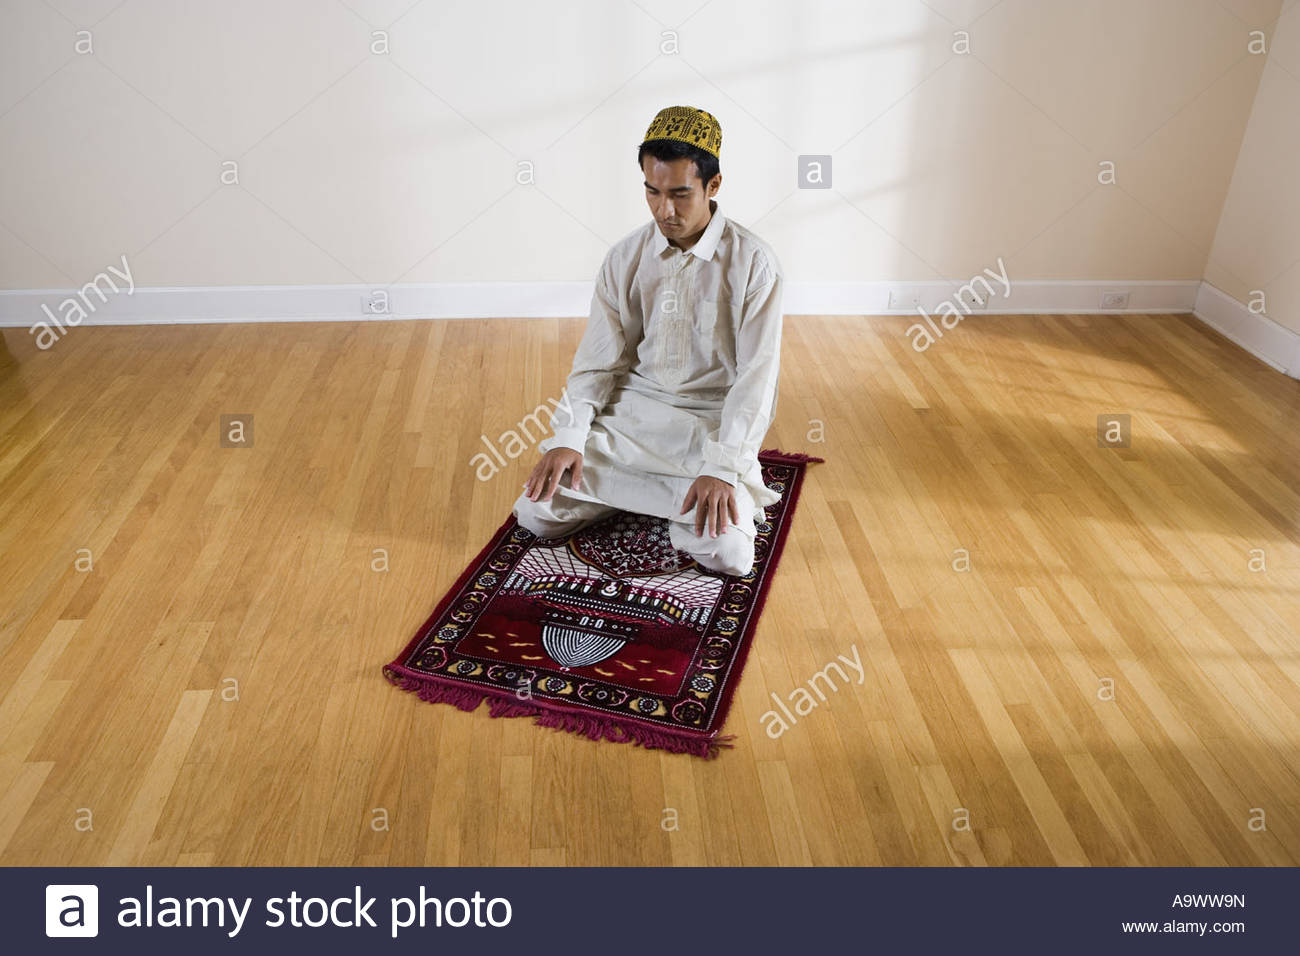sitting: (513, 105, 785, 579)
